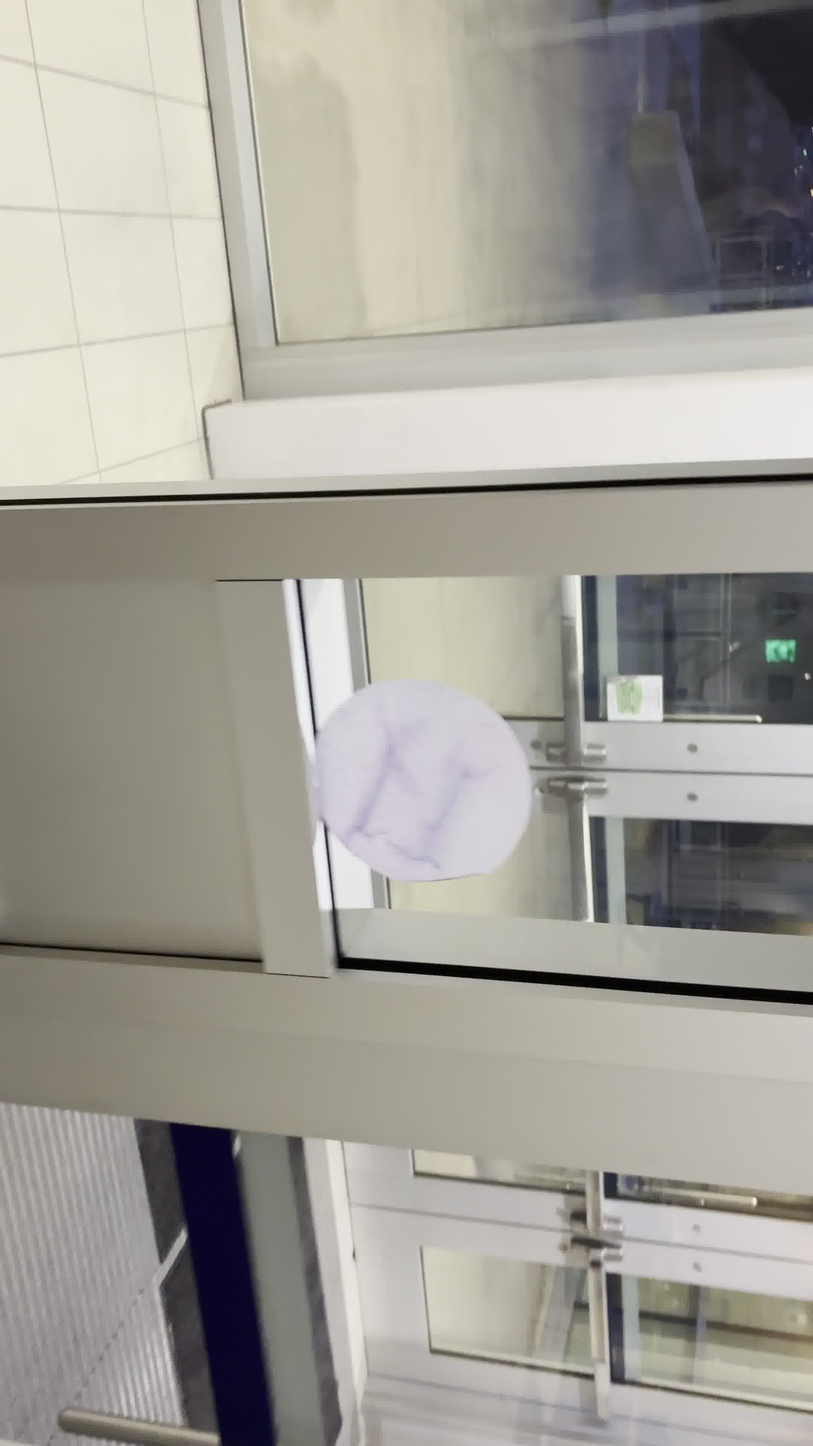Target: (300, 681, 535, 890)
